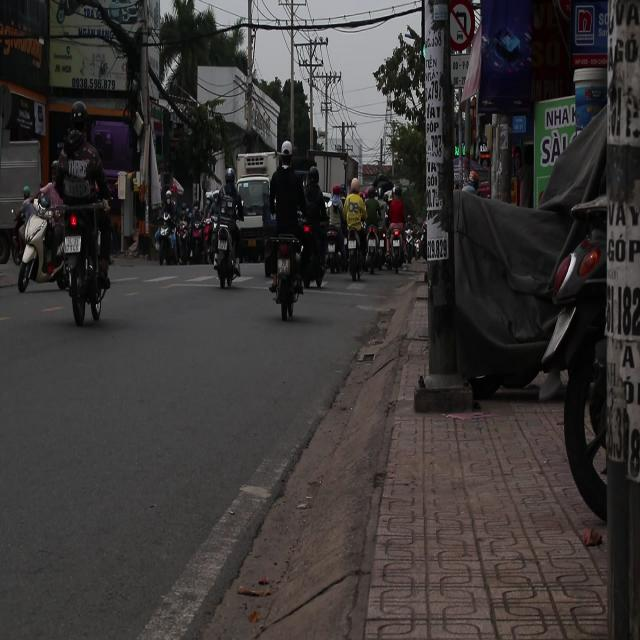motorbike: (49, 184, 114, 324), (15, 194, 67, 294), (267, 232, 307, 321), (211, 225, 240, 289), (154, 218, 182, 266), (323, 223, 347, 276), (185, 220, 209, 264), (348, 234, 363, 287)
truck: (236, 178, 270, 264)
